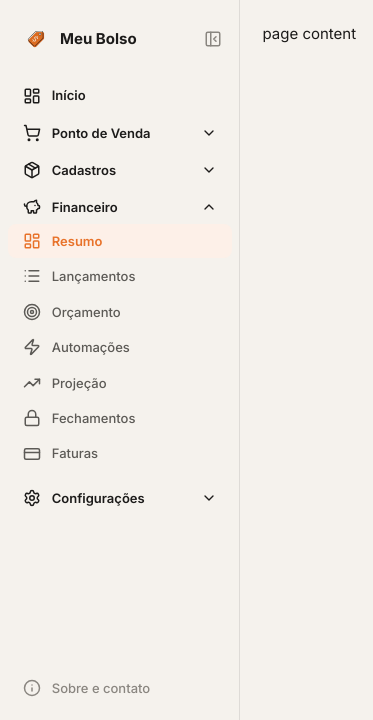
AppShell sidebar › closes the previous group when another is toggled
Click the button "Ponto de Venda" at coordinates (120, 133), box [8,116,232,150]
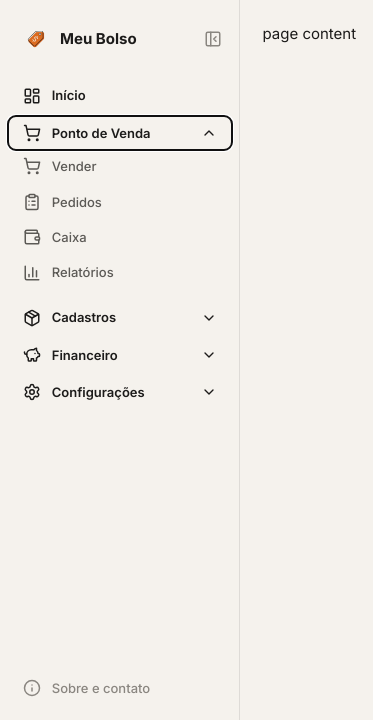
Check: the button "Ponto de Venda" is expanded, box [8,116,232,150]
Check: the button "Financeiro" is collapsed, box [8,338,232,372]
